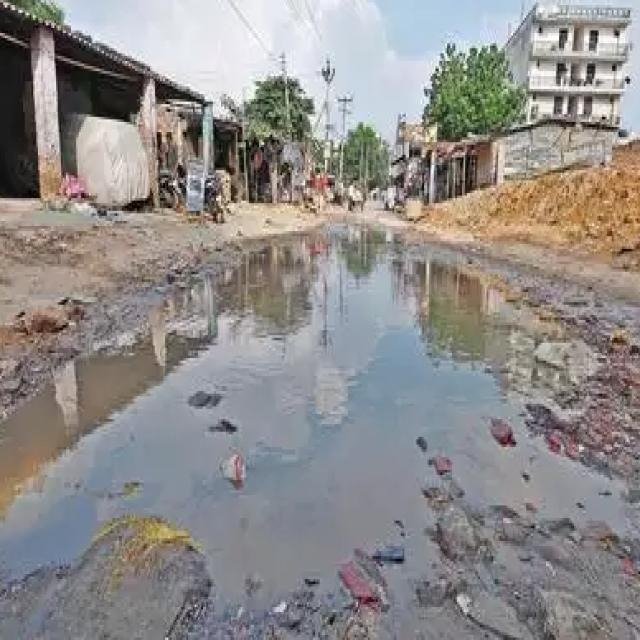Breeding Place: (0, 220, 640, 640)
